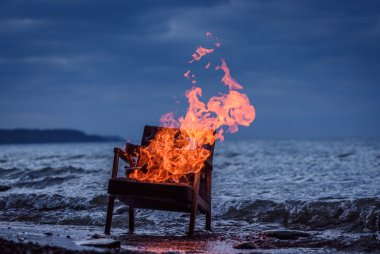fire: (127, 119, 205, 183), (179, 74, 252, 139)
